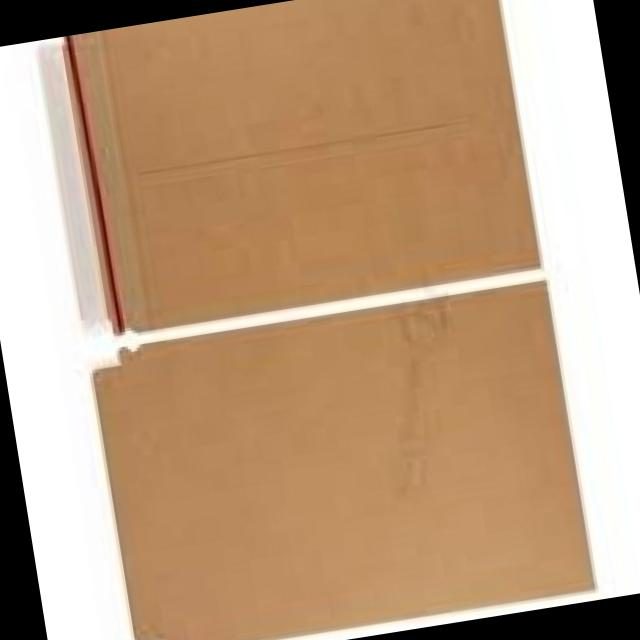cardboard paper: (91, 283, 589, 640), (62, 0, 536, 330)
